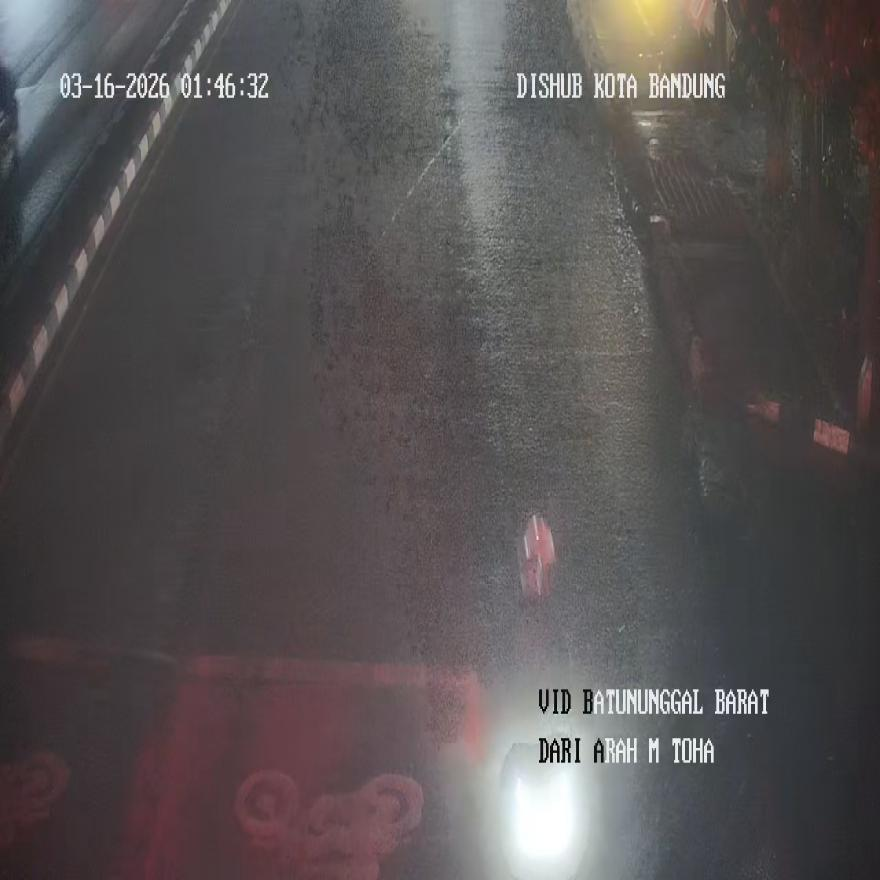Motor: (503, 766, 575, 845)
